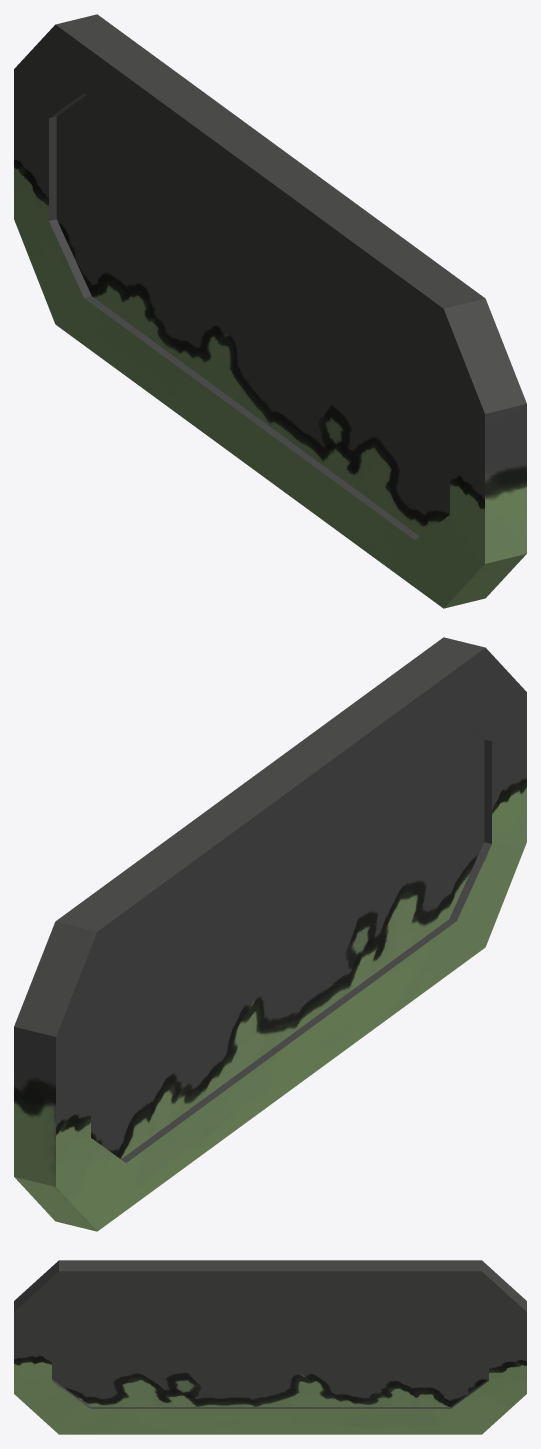
Rendered from AncientBarrier.fbx.
3 renders of one model, top to bottom at view 1: azimuth 30°, elevation 25°; view 2: azimuth 150°, elevation 25°; view 3: azimuth 270°, elevation 25°, orthographic. The views are drawn at different scales.
Parts seen in each view (by area): view 1: Barier; view 2: Barier; view 3: Barier.
Part boxes in pixels (left/top/right/bottom): Barier: left=14, top=14, right=526, bottom=608; Barier: left=14, top=637, right=526, bottom=1231; Barier: left=14, top=1260, right=526, bottom=1434.
Bounding box in the file's own units: 0.5508 × 3.76 × 10.7.
